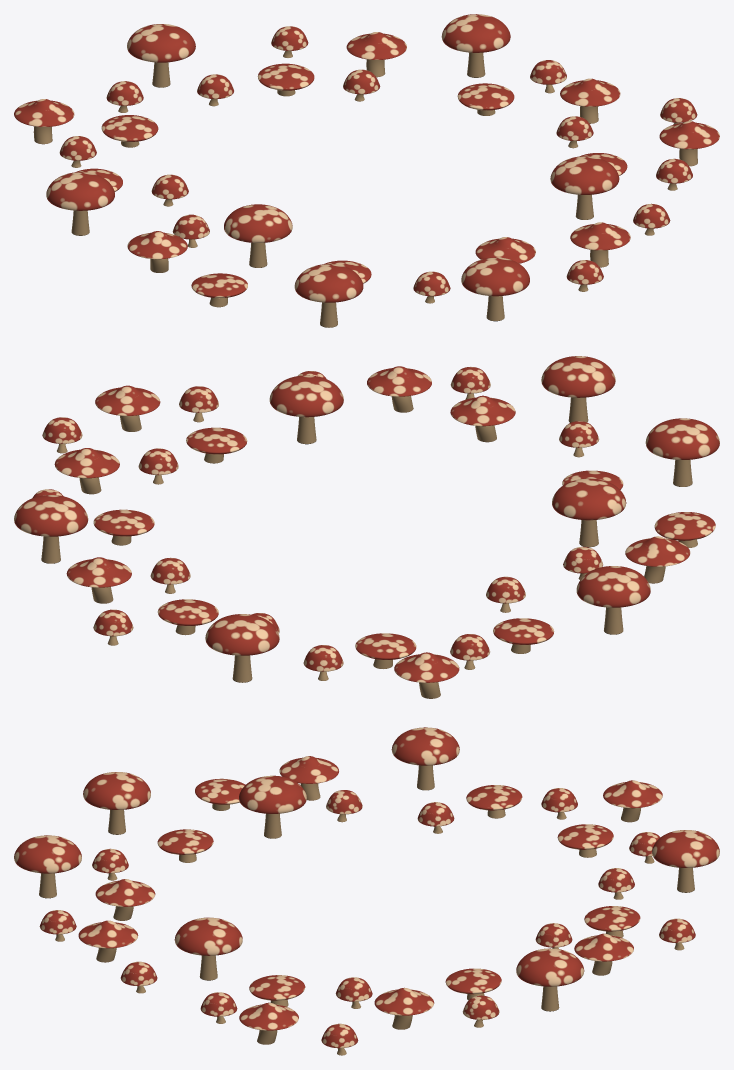
The model's file is fairy_ring1.glb.
The picture shows the model from 3 angles, top to bottom: view 1: azimuth 30°, elevation 25°; view 2: azimuth 150°, elevation 25°; view 3: azimuth 270°, elevation 25°; orthographic projection. The views are drawn at different scales.
Parts seen in each view (by area): view 1: Mushroom1.002, Mushroom1.004, Mushroom1.003, Mushroom1.005, Mushroom1.001, Mushroom, Mushroom1.006, Bake3, Mushroom3.003, Mushroom3.006, Mushroom3.004, Mushroom3.005 (+20 smaller); view 2: Mushroom1.006, Mushroom1.004, Mushroom1.001, Mushroom1.002, Mushroom, Mushroom1.005, Mushroom1.003, Mushroom3.001, Bake3, Mushroom3.002, Mushroom3.004, Mushroom3.006 (+20 smaller); view 3: Mushroom1.004, Mushroom1.001, Mushroom1.005, Mushroom1.003, Mushroom, Mushroom1.002, Mushroom1.006, Mushroom3.002, Mushroom3.005, Bake3, Mushroom3.003, Mushroom3.006 (+23 smaller).
Part boxes in pixels (bbox=[...]): Mushroom1.002: bbox=[294, 264, 363, 327]; Mushroom1.004: bbox=[550, 156, 619, 219]; Mushroom1.003: bbox=[461, 257, 529, 321]; Mushroom1.005: bbox=[441, 14, 510, 77]; Mushroom1.001: bbox=[224, 204, 292, 267]; Mushroom: bbox=[46, 172, 114, 235]; Mushroom1.006: bbox=[127, 24, 195, 87]; Bake3: bbox=[14, 99, 74, 144]; Mushroom3.003: bbox=[570, 222, 630, 267]; Mushroom3.006: bbox=[346, 32, 406, 77]; Mushroom3.004: bbox=[659, 121, 719, 166]; Mushroom3.005: bbox=[560, 78, 620, 123]; Mushroom1.006: bbox=[205, 614, 279, 682]; Mushroom1.004: bbox=[269, 375, 343, 444]; Mushroom1.001: bbox=[552, 478, 626, 547]; Mushroom1.002: bbox=[645, 418, 719, 486]; Mushroom: bbox=[576, 566, 650, 634]; Mushroom1.005: bbox=[14, 495, 88, 563]; Mushroom1.003: bbox=[541, 356, 615, 422]; Mushroom3.001: bbox=[625, 536, 690, 583]; Bake3: bbox=[394, 652, 459, 698]; Mushroom3.002: bbox=[450, 395, 515, 442]; Mushroom3.004: bbox=[95, 385, 160, 431]; Mushroom3.006: bbox=[66, 557, 131, 603]; Mushroom1.004: bbox=[174, 917, 242, 980]; Mushroom1.001: bbox=[239, 775, 306, 838]; Mushroom1.005: bbox=[516, 948, 584, 1011]; Mushroom1.003: bbox=[14, 835, 81, 898]; Mushroom: bbox=[391, 727, 459, 790]; Mushroom1.002: bbox=[83, 772, 150, 834]; Mushroom1.006: bbox=[652, 830, 719, 892]; Mushroom3.002: bbox=[95, 879, 155, 920]; Mushroom3.005: bbox=[374, 987, 434, 1029]; Bake3: bbox=[603, 780, 662, 822]; Mushroom3.003: bbox=[78, 920, 138, 962]; Mushroom3.006: bbox=[574, 933, 633, 975].
Bounding box in the file's own units: 72.42 × 6.68 × 74.64.
4 materials, 4 textured.
